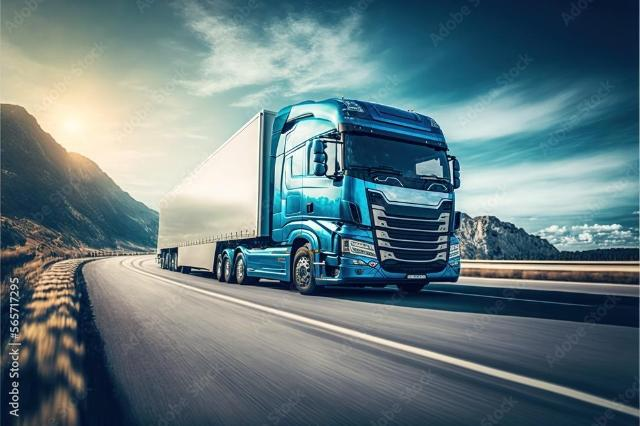truck: (150, 97, 464, 292)
